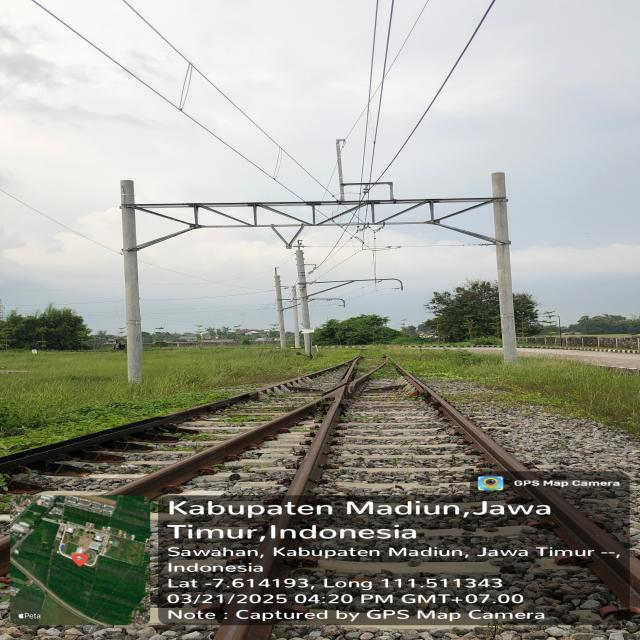rail-detection: (404, 371, 640, 606), (105, 401, 319, 499), (0, 391, 257, 470), (286, 383, 346, 500)
